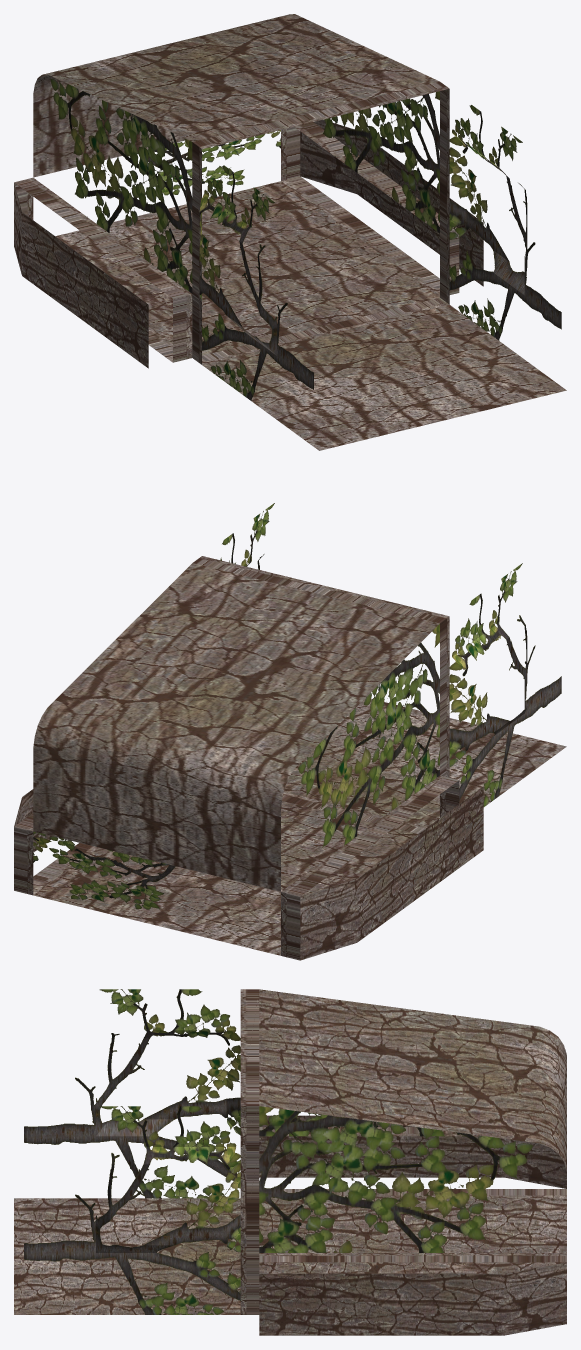
Rendered from crate_vent_s.FBX.
The picture shows the model from 3 angles, top to bottom: view 1: azimuth 30°, elevation 25°; view 2: azimuth 150°, elevation 25°; view 3: azimuth 270°, elevation 25°; orthographic projection. The views are drawn at different scales.
Visible parts, largest first — view 1: crate_vent_s; view 2: crate_vent_s; view 3: crate_vent_s.
Part boxes in pixels (left/top/right/bottom): crate_vent_s: left=14, top=14, right=566, bottom=450; crate_vent_s: left=14, top=503, right=566, bottom=960; crate_vent_s: left=14, top=989, right=566, bottom=1335.
Size of the model in its own units: 4.06 by 6 by 2.5.
